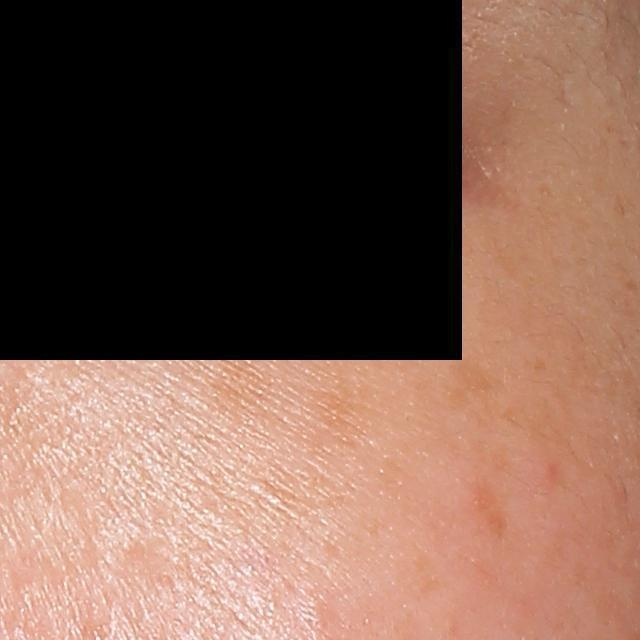melasma: (207, 355, 266, 422), (447, 361, 489, 412), (472, 485, 508, 542)
